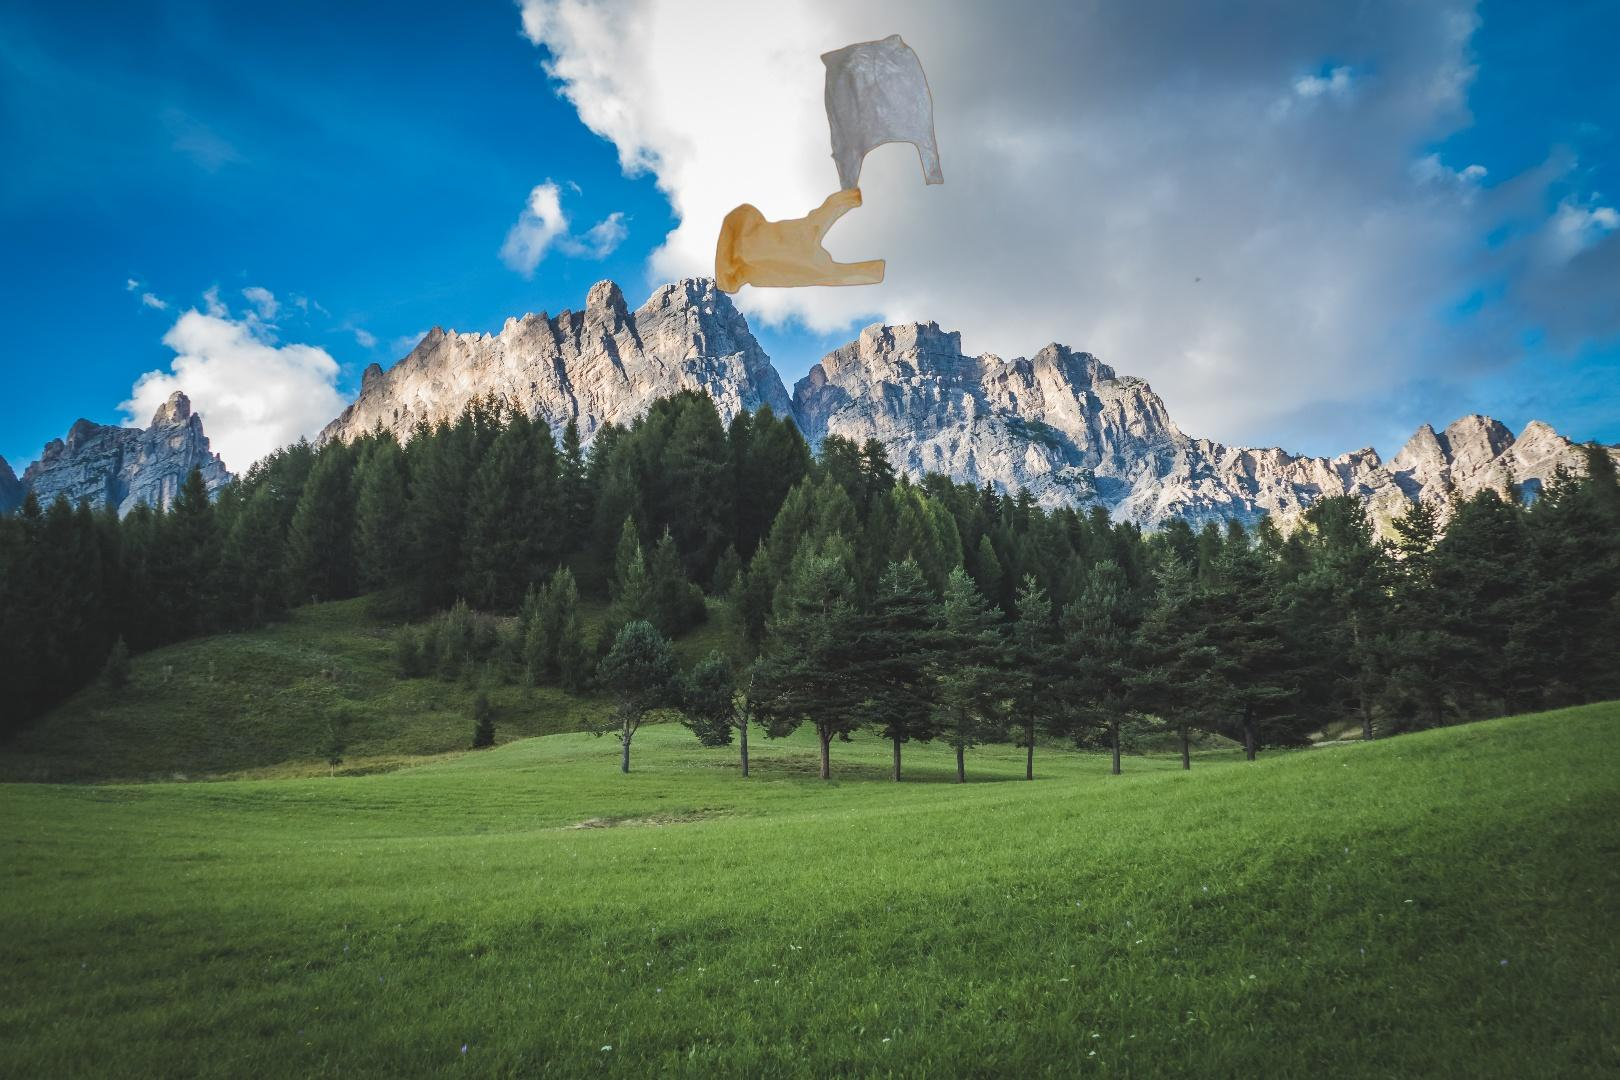plastic-bag: (712, 33, 945, 309)
